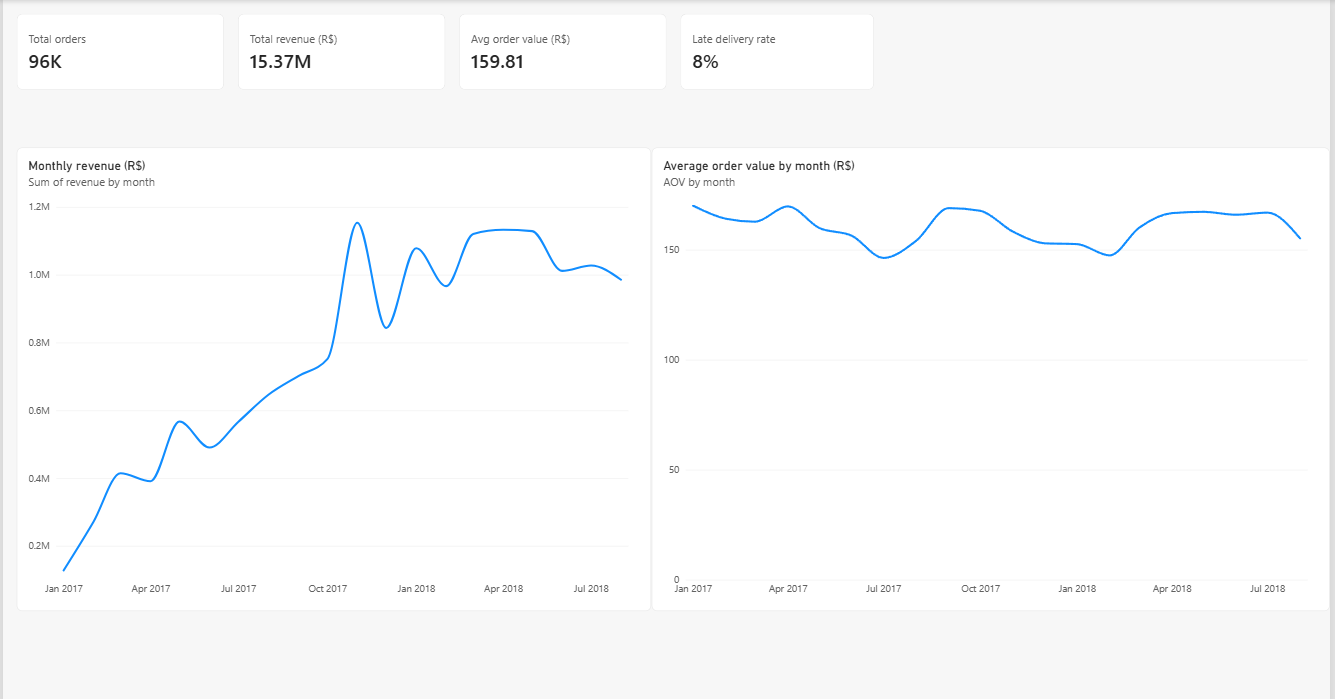

The dashboard page shown, as its layout file describes it:
{"tool":"powerbi","page":{"name":"Overview","canvas":[1920,1080],"ordinal":0},"visuals":[{"type":"cardVisual","fields":{"Data":["Sum(monthly_summary.orders)"]},"box":[20,20,300,110],"z":0},{"type":"cardVisual","fields":{"Data":["monthly_summary.Late %"]},"box":[980,20,280,110],"z":1000},{"type":"cardVisual","fields":{"Data":["monthly_summary.AOV"]},"box":[660,20,300,110],"z":2000},{"type":"cardVisual","fields":{"Data":["Sum(monthly_summary.revenue)"]},"box":[340,20,300,110],"z":3000},{"type":"lineChart","title":"Monthly revenue (R$)","fields":{"Category":["monthly_summary.month.Variation.Date Hierarchy.Month"],"Y":["Sum(monthly_summary.revenue)"]},"box":[20.6,214.1,918,671],"z":4000},{"type":"lineChart","title":"Average order value by month (R$)","fields":{"Category":["monthly_summary.month.Variation.Date Hierarchy.Month"],"Y":["monthly_summary.AOV"]},"box":[938.6,214.1,981.8,671],"z":5000}]}

Visuals, with their boxes on the page's 1920x1080 design canvas (x1, y1, x2, y2). These are canvas units, not pixel positions in the 1335x699 screenshot, which may show the page scaled, cropped or inside an application window:
cardVisual - Sum(monthly_summary.orders): (20,20,320,130)
cardVisual - monthly_summary.Late %: (980,20,1260,130)
cardVisual - monthly_summary.AOV: (660,20,960,130)
cardVisual - Sum(monthly_summary.revenue): (340,20,640,130)
"Monthly revenue (R$)" lineChart: (21,214,939,885)
"Average order value by month (R$)" lineChart: (939,214,1920,885)
